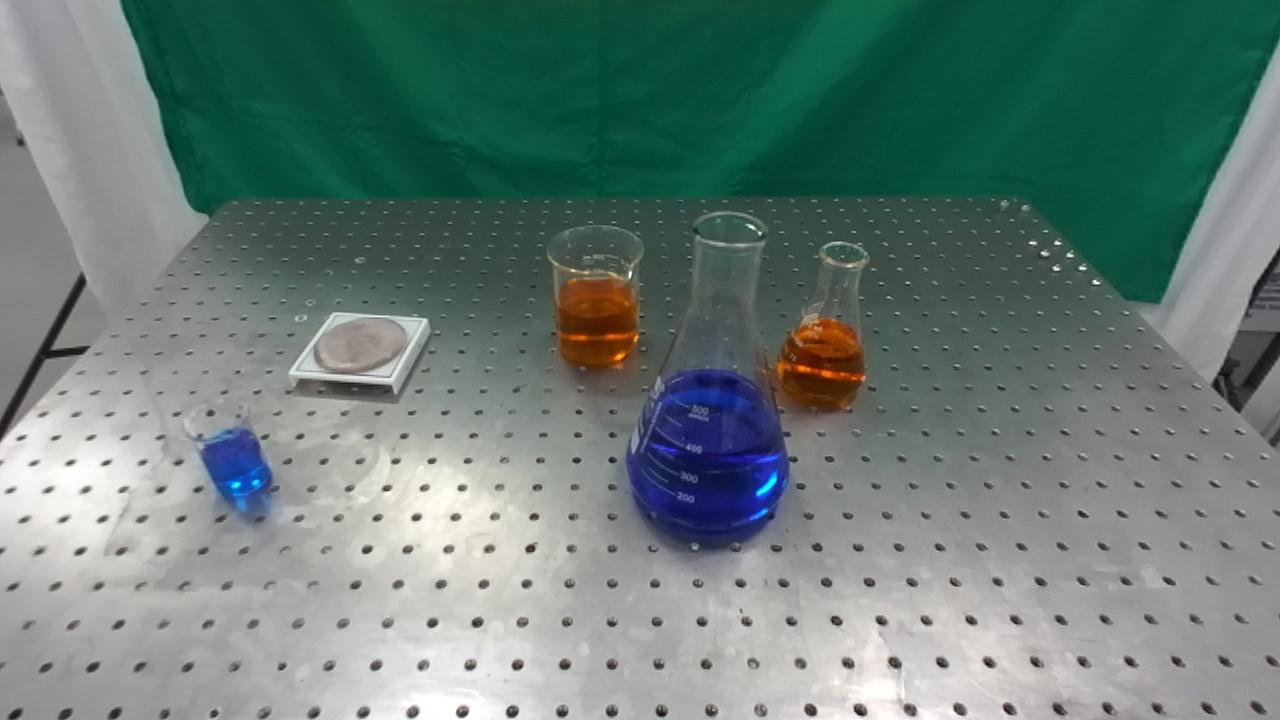glass: (632, 211, 799, 532), (771, 238, 874, 416), (547, 222, 647, 375), (181, 395, 278, 501)
plate: (289, 305, 431, 404)
